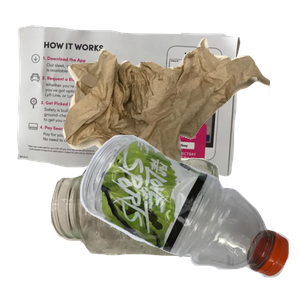glass: (48, 156, 260, 300)
paper: (14, 22, 247, 191)
plastic: (77, 132, 300, 300)
trash: (60, 36, 300, 198)
